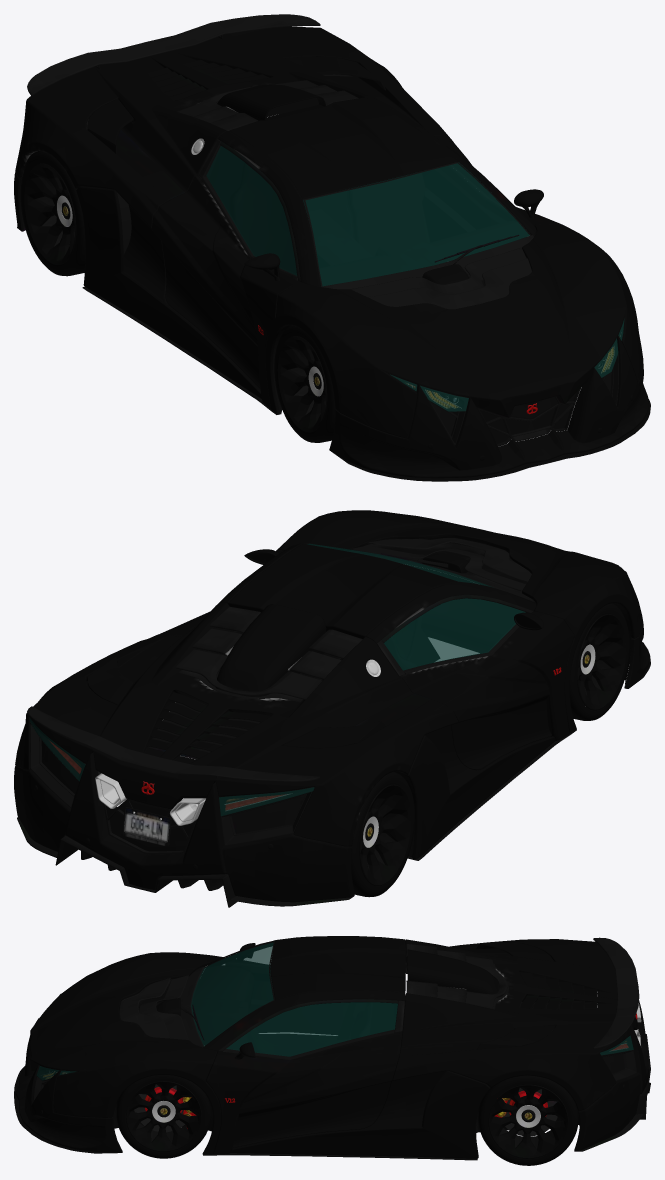
File: car-goblin.glb
3 views of the same model, one above another, from view 1: azimuth 30°, elevation 25°; view 2: azimuth 150°, elevation 25°; view 3: azimuth 270°, elevation 25° (orthographic). The views are drawn at different scales.
Visible parts, largest first — view 1: Car_1, Car_12, Car_0; view 2: Car_1, Car_12, Car_0; view 3: Car_1, Car_12, Car_0.
Boxes of the visible parts, box(x1,y1,x2,y2) form: Car_1: box(14, 14, 650, 481); Car_12: box(206, 146, 624, 411); Car_0: box(20, 151, 335, 442); Car_1: box(14, 510, 650, 907); Car_12: box(29, 543, 525, 816); Car_0: box(78, 603, 629, 897); Car_1: box(14, 936, 650, 1160); Car_12: box(36, 942, 633, 1080); Car_0: box(116, 1075, 578, 1165).
Bounding box in the file's own units: 2.2 × 1.17 × 4.6.
Materials: 3 (1 with a texture image).
